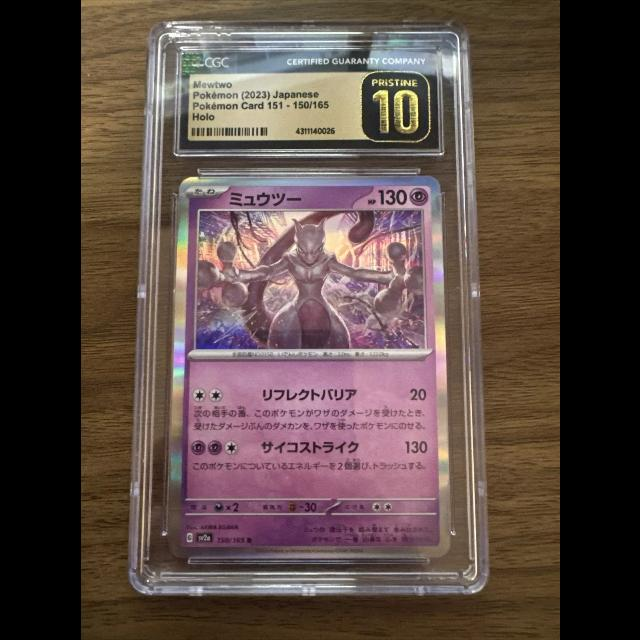card: (166, 175, 451, 558)
cgc_label: (176, 49, 439, 151)
cgc_slab: (125, 19, 492, 596)
